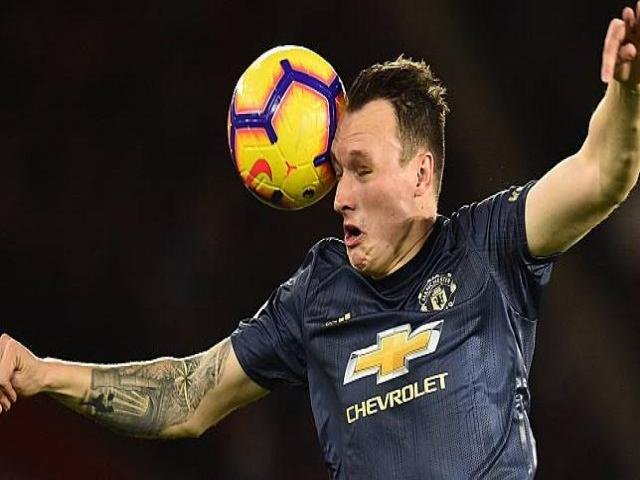round ball: (224, 44, 348, 210)
